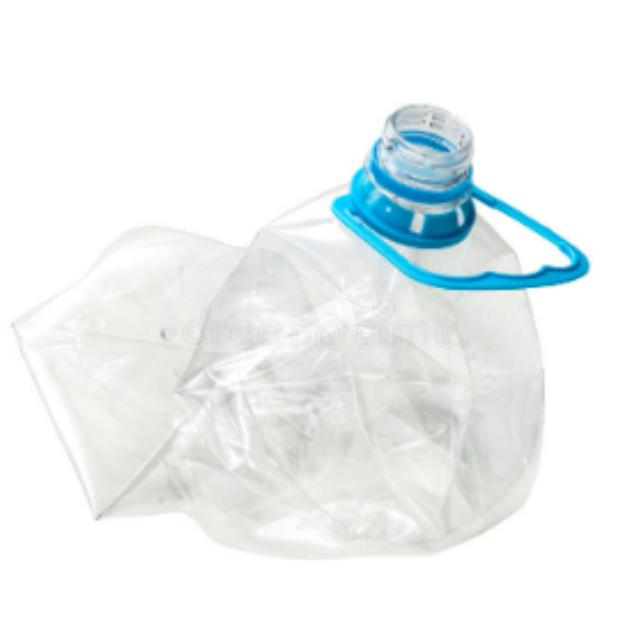Plastic: (4, 78, 612, 582)
